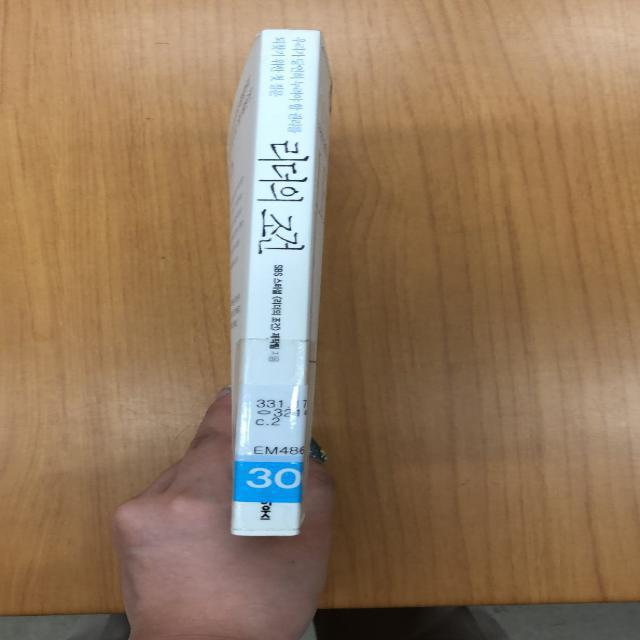Wornout: (249, 25, 272, 51), (286, 25, 325, 38)
